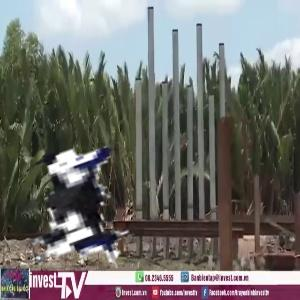drone: (9, 88, 211, 290)
